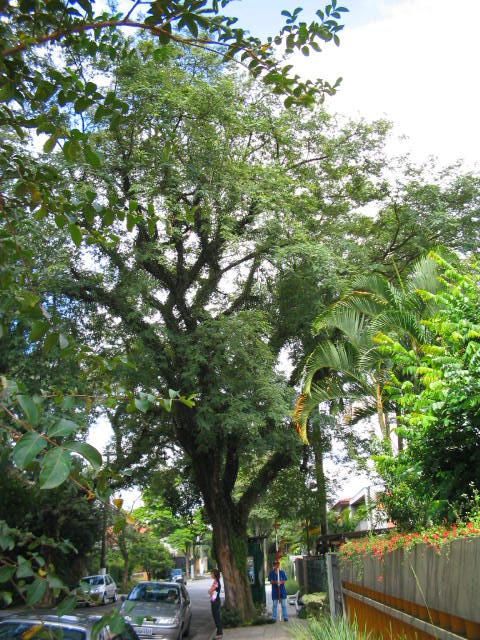crown: (10, 29, 478, 472)
stem: (200, 520, 266, 625)
stick: (270, 513, 280, 618)
tree: (8, 28, 478, 626)
